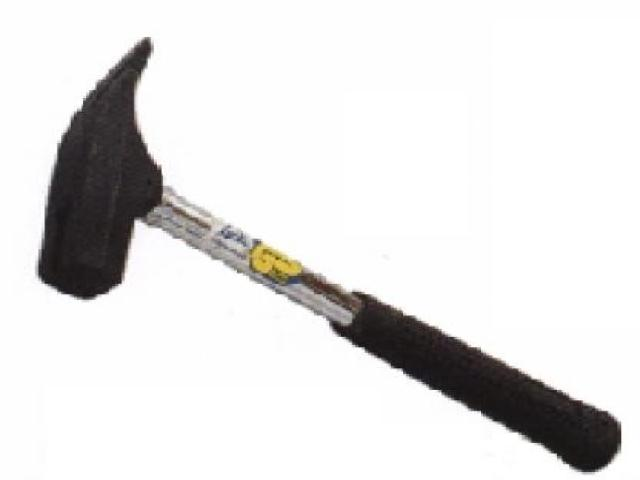Hammer: (38, 38, 620, 471)
